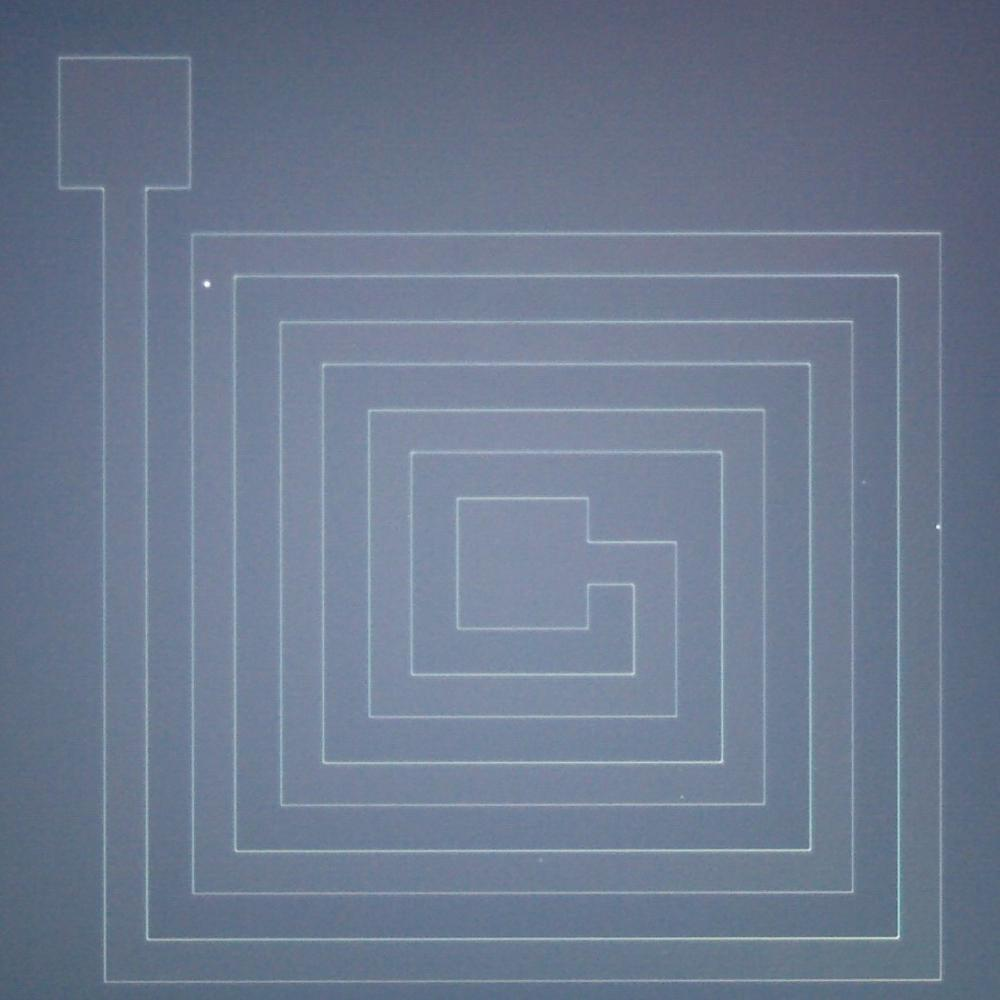dot: (204, 281, 210, 288), (681, 795, 685, 800), (862, 480, 866, 484), (936, 525, 940, 529)
